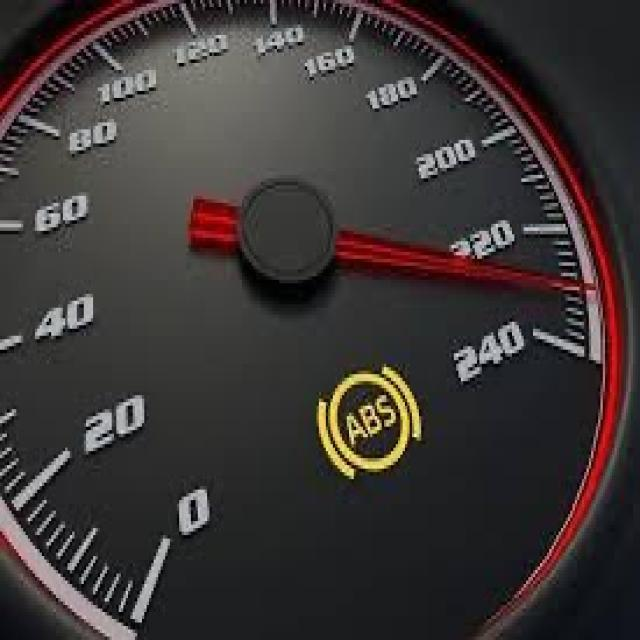kontrolka: (309, 352, 433, 492)
